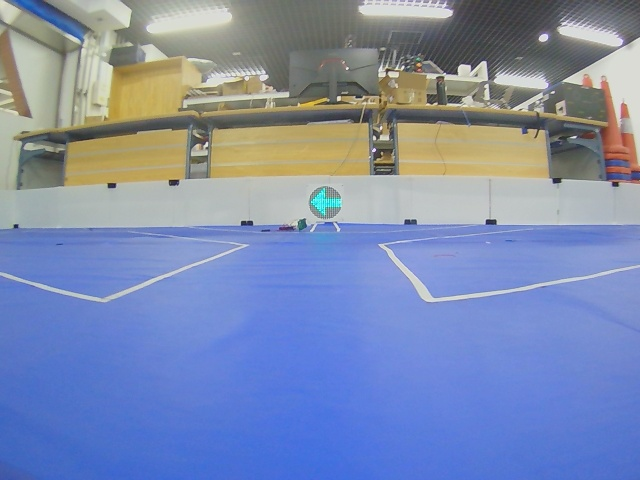left_green: (309, 186, 342, 219)
